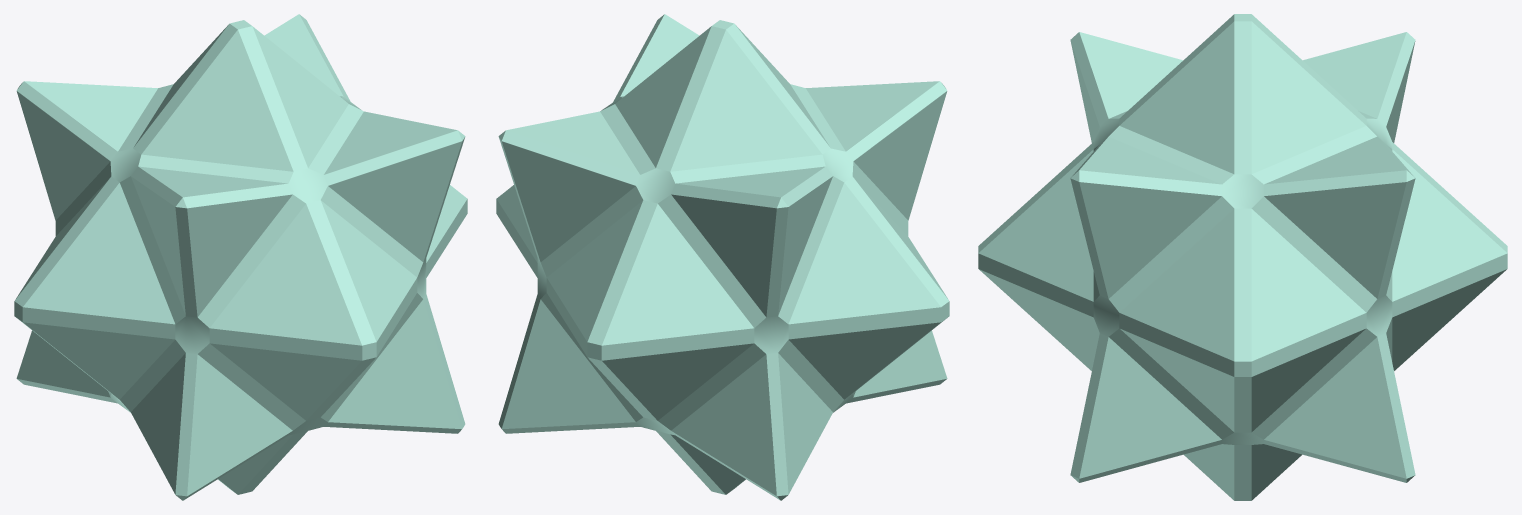
Rendered from flat star emerge star object.fbx.
3 views of the same model, side by side, from view 1: azimuth 30°, elevation 25°; view 2: azimuth 150°, elevation 25°; view 3: azimuth 270°, elevation 25° (orthographic). The views are drawn at different scales.
Visible parts, largest first — view 1: Cube_002; view 2: Cube_002; view 3: Cube_002.
Part boxes in pixels (left/top/right/bottom): Cube_002: left=14, top=14, right=467, bottom=500; Cube_002: left=496, top=14, right=949, bottom=500; Cube_002: left=978, top=14, right=1507, bottom=500.
Bounding box in the file's own units: 141 × 141 × 141.
